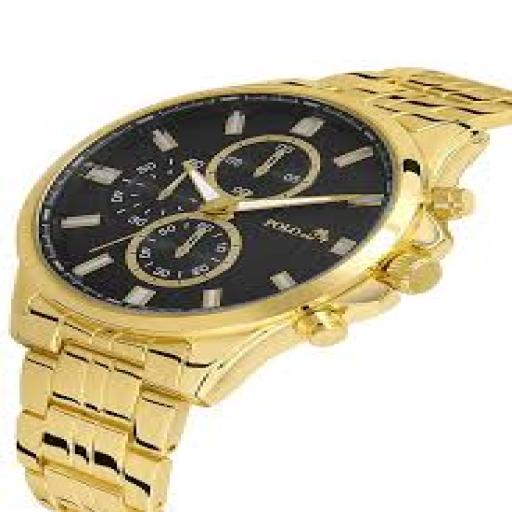KolSaati: (3, 5, 497, 489)
